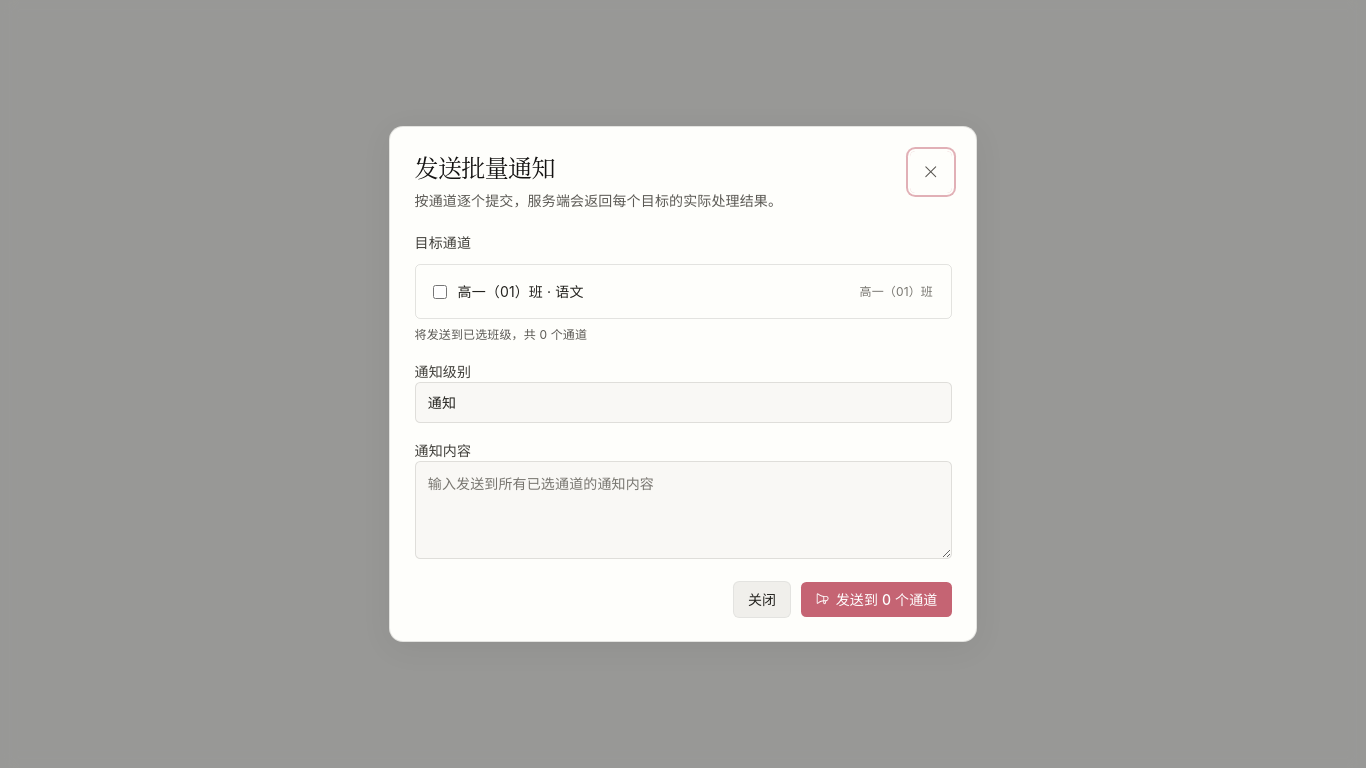
it: 批量通知幂等 › 网络失败后的再次提交复用目标 UUID，并显示成功汇总
Click the checkbox at (440, 292), box 433,285 -> 447,299
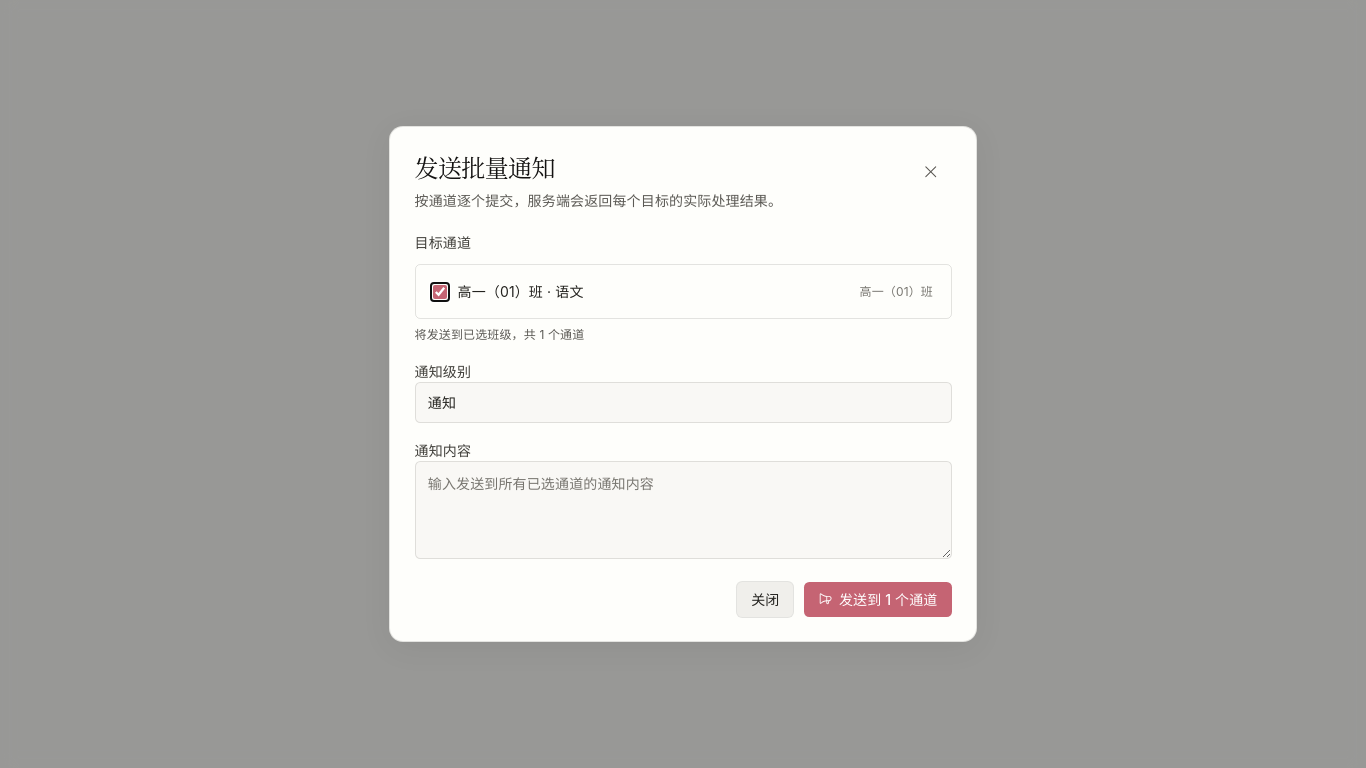
Type "停课通知" into the text box labelled "通知内容" at (683, 510), box 414,461 -> 952,559
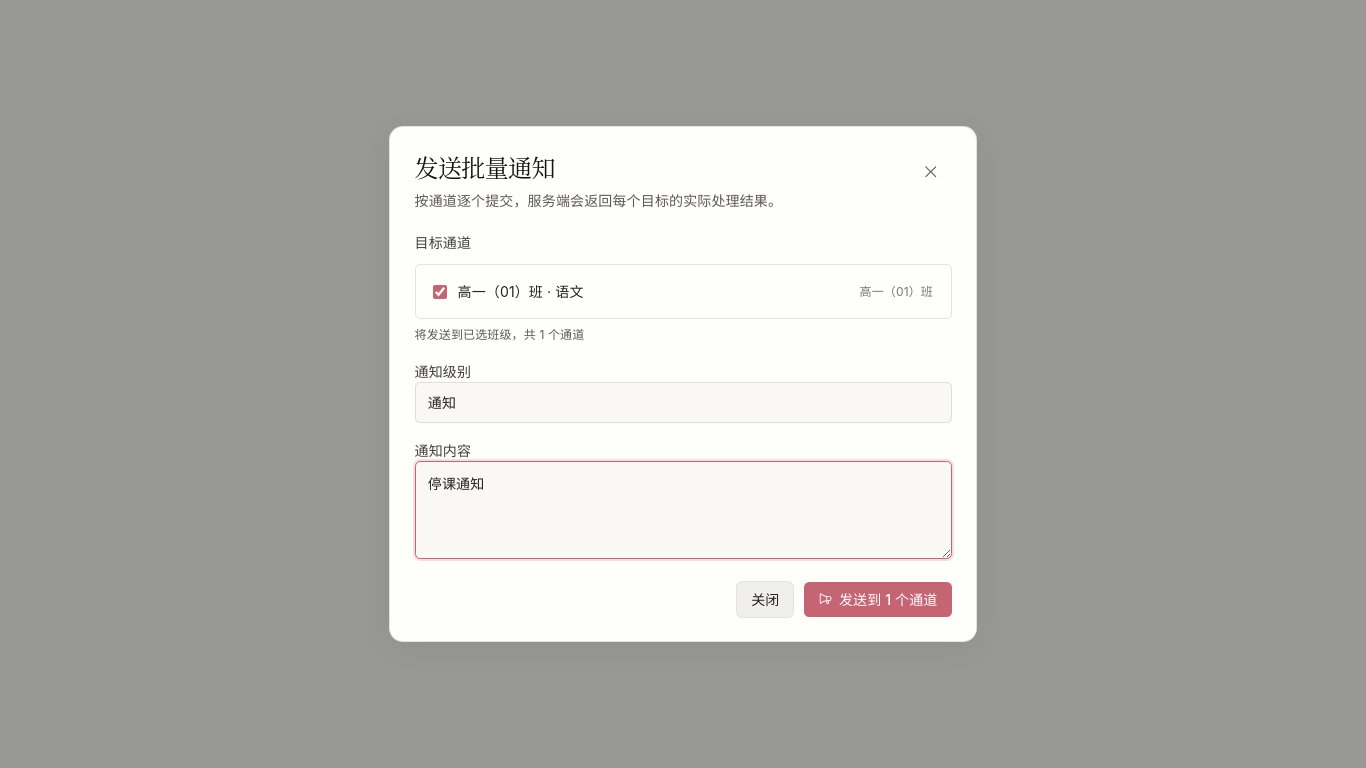
Click the button "发送到 1 个通道" at (878, 599), box 804,582 -> 952,617
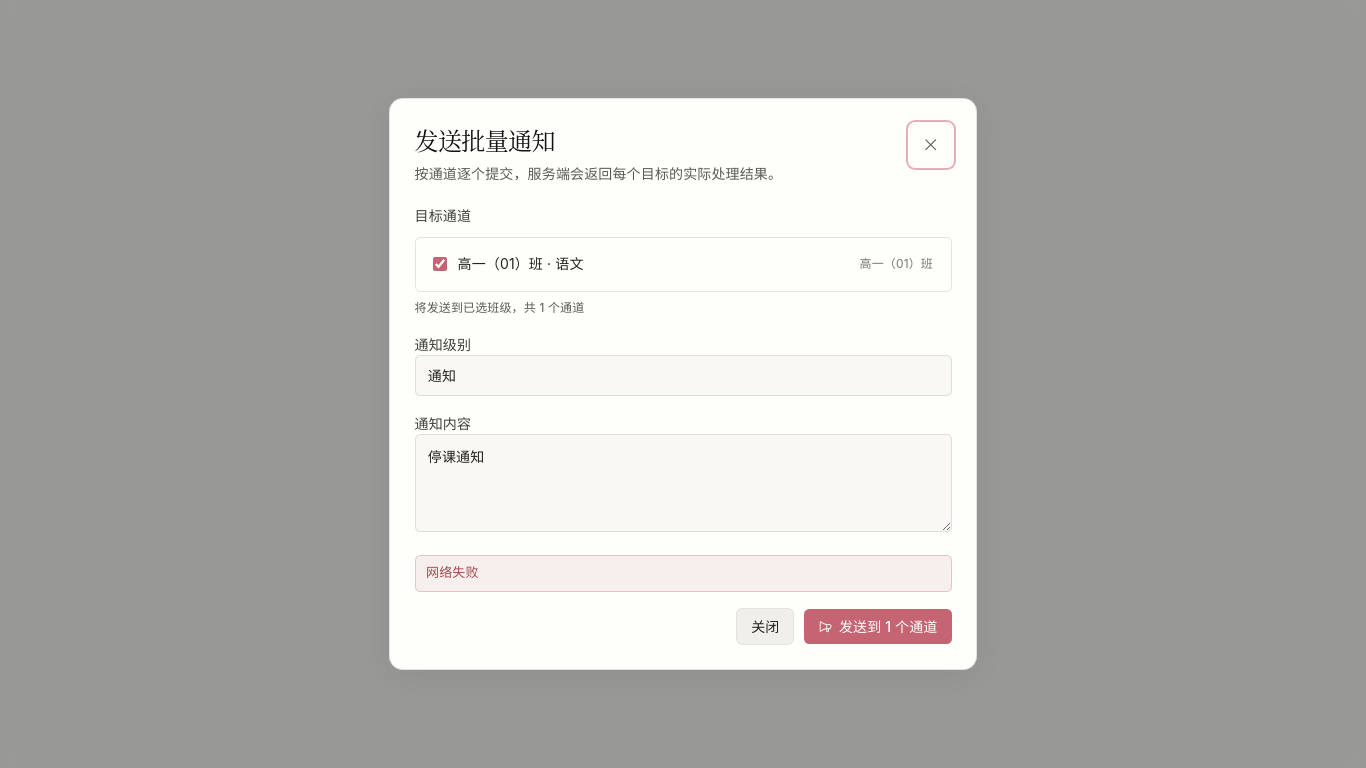
Click the button "发送到 1 个通道" at (878, 627), box 804,609 -> 952,644
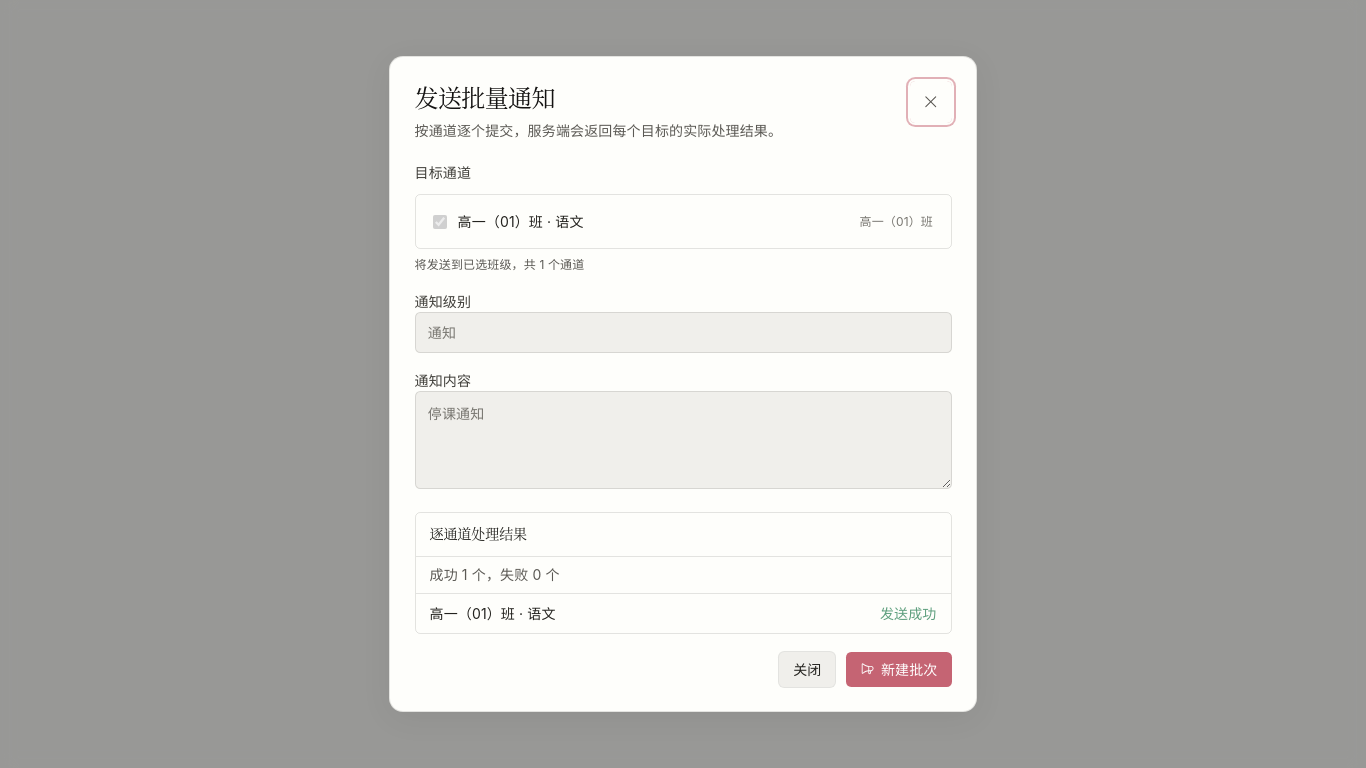
expect the heading "逐通道处理结果" is shown: met, box 416,513 -> 950,557
expect the text "成功 1 个，失败 0 个" is shown: met, box 416,557 -> 950,594
